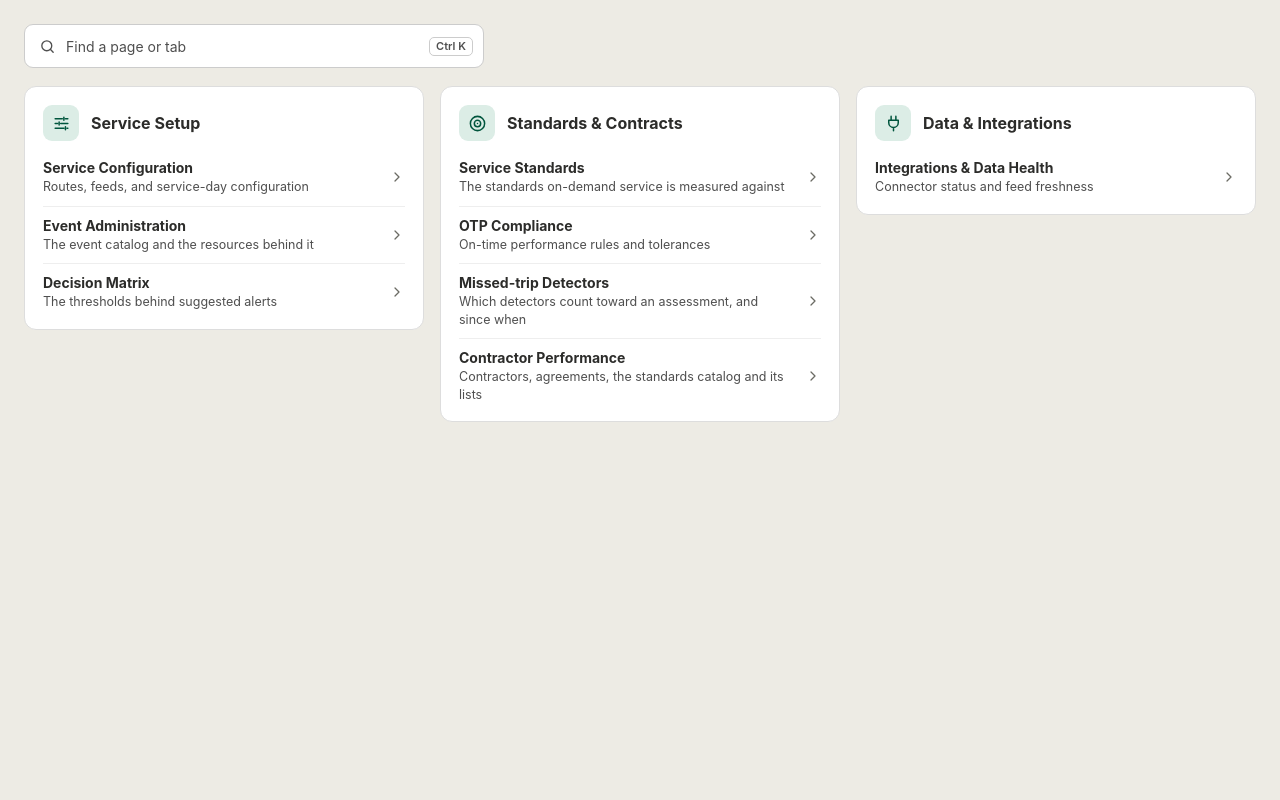
Scenario: Quick find › opens from the home page's find field and closes on Escape
Click the button "Find a page or tab Ctrl K" at (126, 46), box [24,24,484,68]
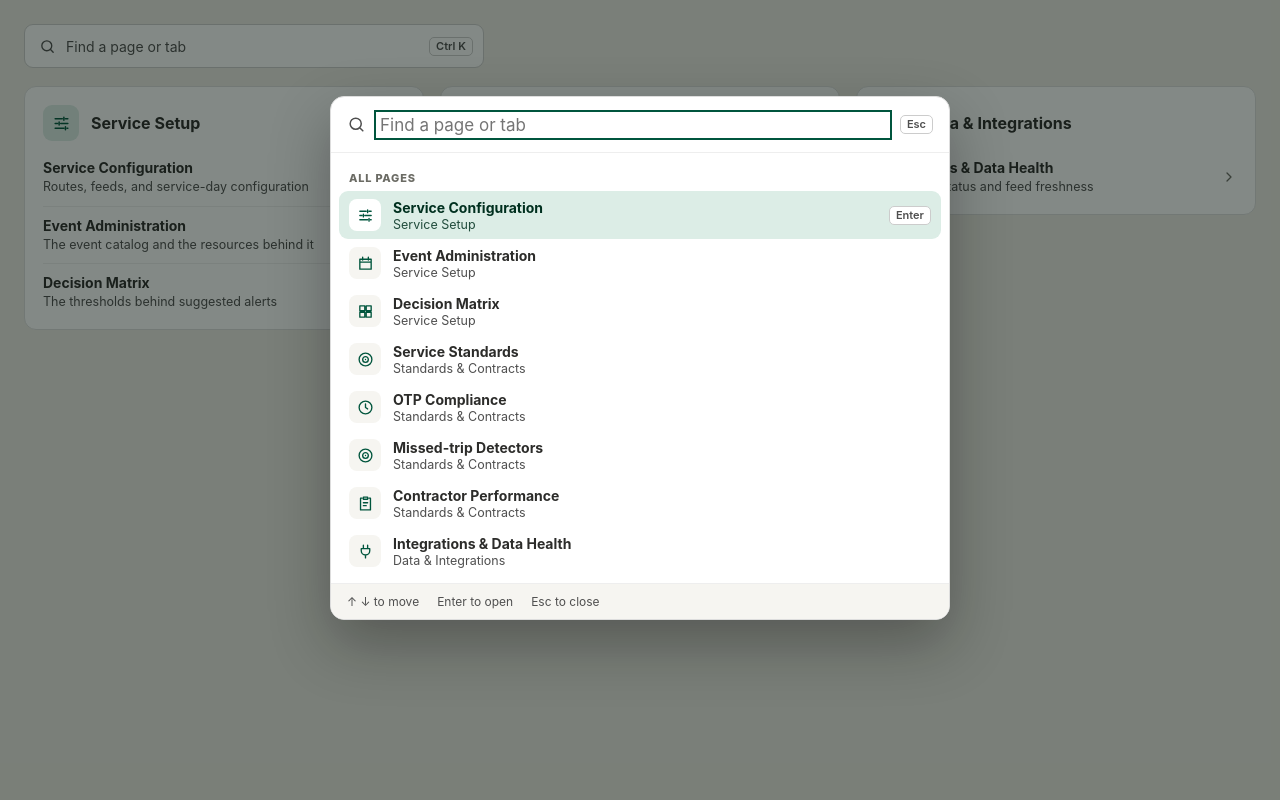
Press Escape in the dropdown labelled "Find a page or tab", box [378,114,888,136]
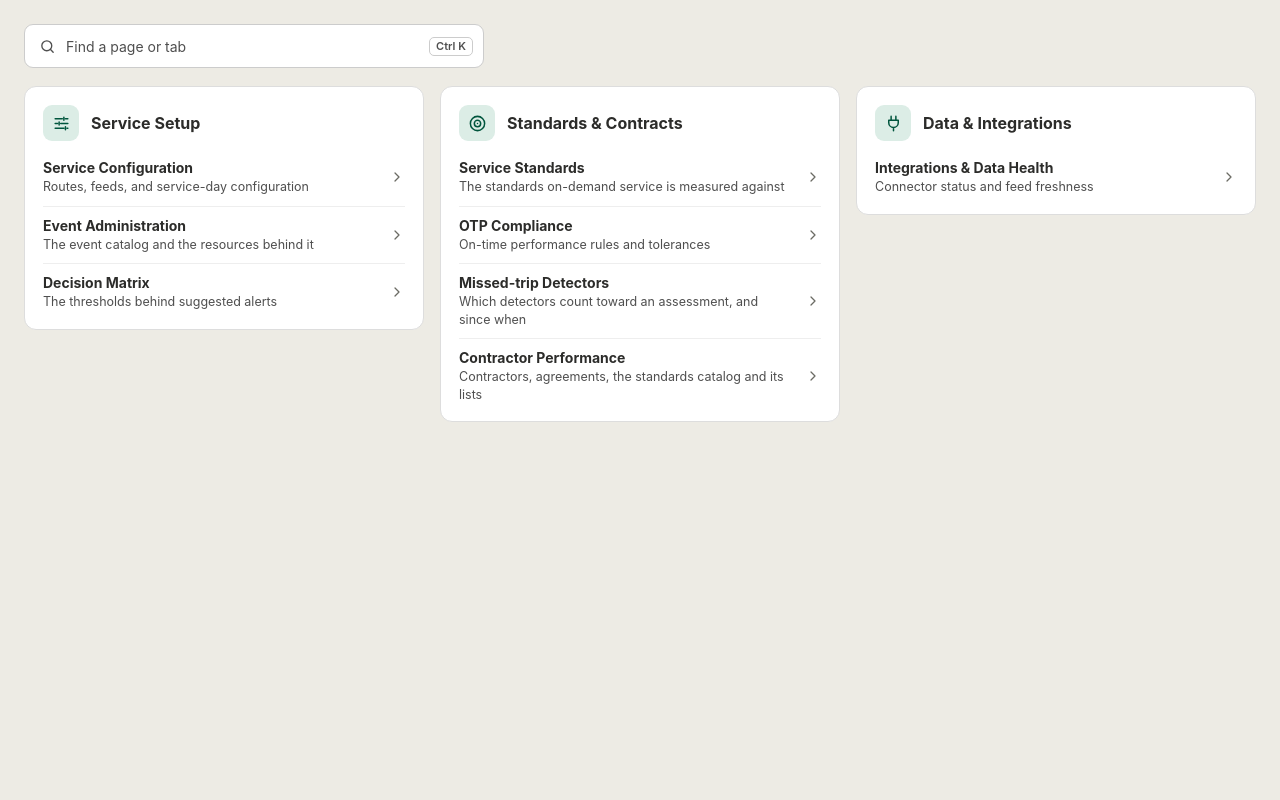
expect the dialog is gone: met
